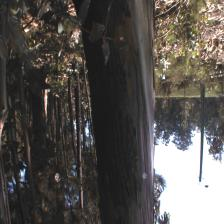trunktrack_idkeyframe: (82, 1, 157, 223)
